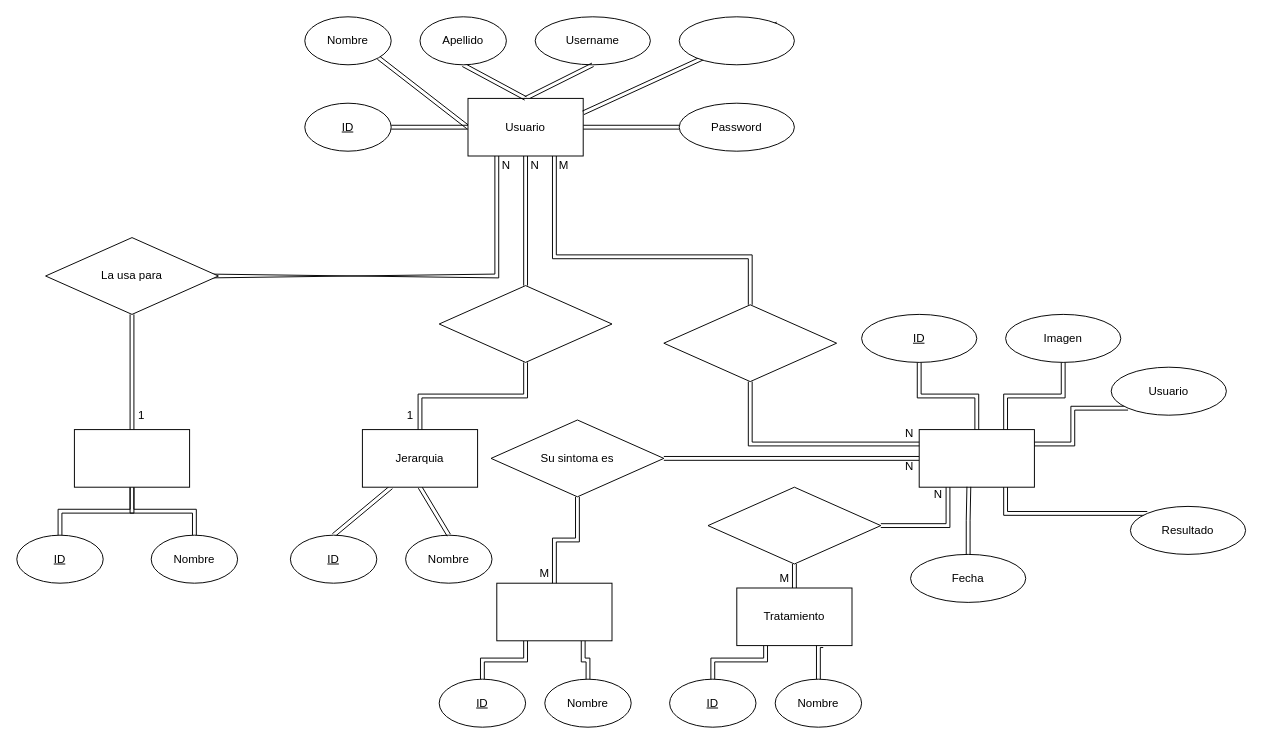
Some shapes in this 1262 by 744 pixel diagram are drawn without their labels. The shapes that lost their labels are listed below. From the top down, each one's centre as x and y in pixels, then its label:
point (736, 40): Email
point (525, 323): Su jerarquia es
point (750, 343): Pertenece a
point (131, 458): Tipo Usuario
point (976, 458): Analisis
point (794, 525): Se trata con
point (554, 611): Sintoma
